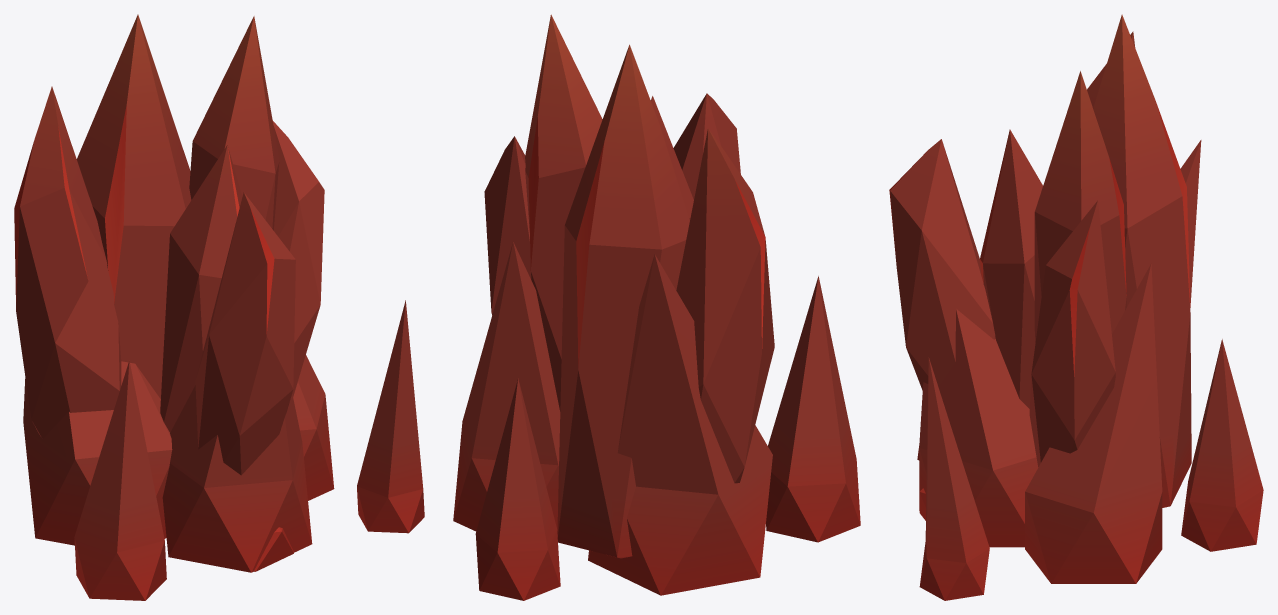
File: Red_stone.fbx
3 views of the same model, side by side, from view 1: azimuth 30°, elevation 25°; view 2: azimuth 150°, elevation 25°; view 3: azimuth 270°, elevation 25° (orthographic). The views are drawn at different scales.
Parts seen in each view (by area): view 1: Red_stone; view 2: Red_stone; view 3: Red_stone.
Boxes of the visible parts, x1,y1,x2,y2 form: Red_stone: (14,14,424,600); Red_stone: (453,14,860,600); Red_stone: (889,14,1263,600).
Size of the model in its own units: 1.21 by 1.17 by 1.72.
